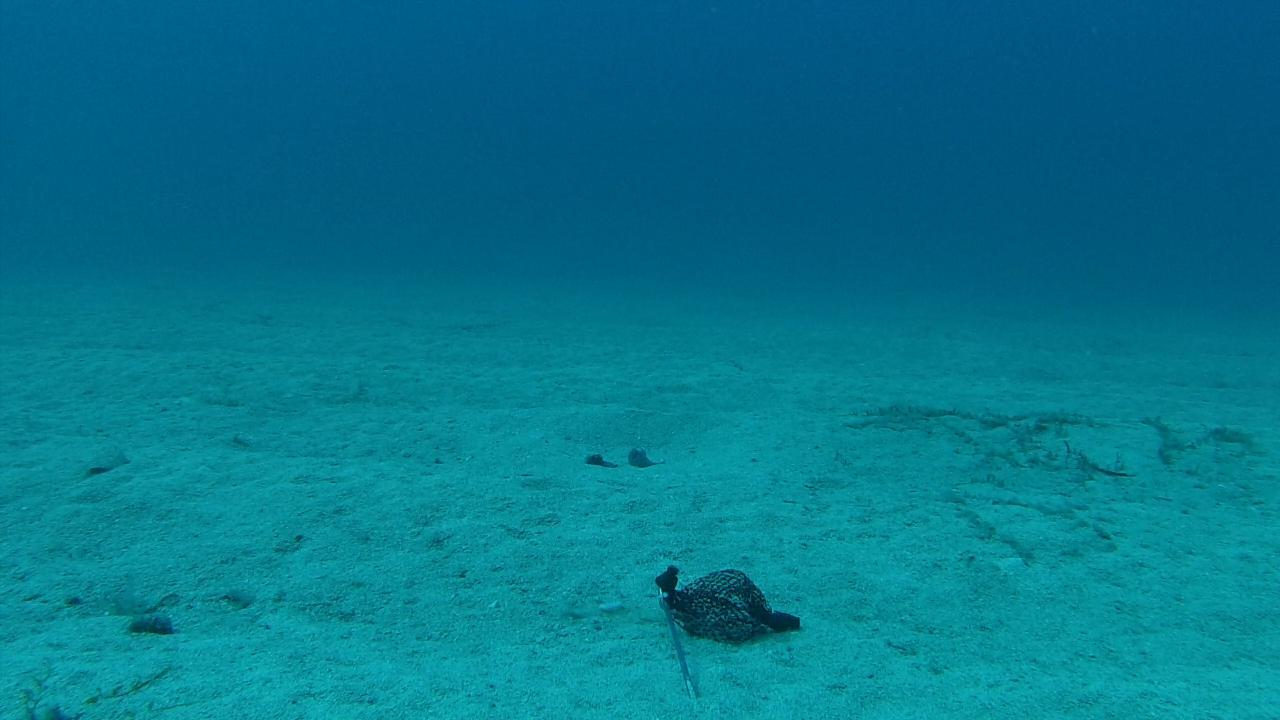bothus: (80, 442, 134, 480)
